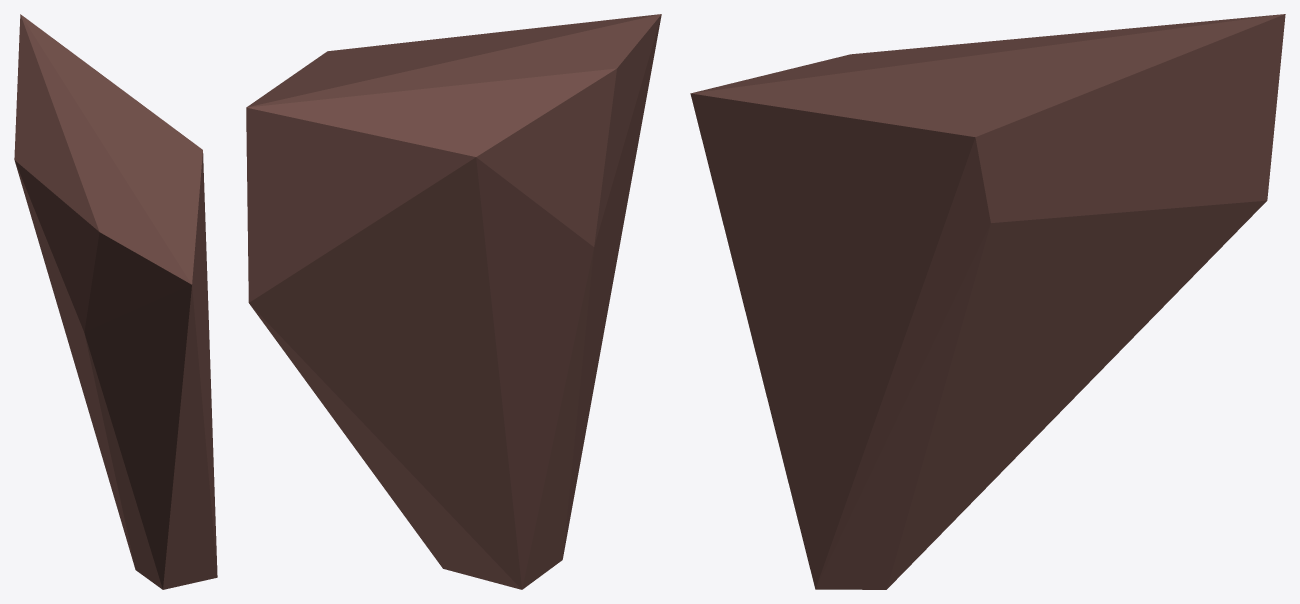
File: Willow_Dead_4.lod4.glb
3 views of the same model, side by side, from view 1: azimuth 30°, elevation 25°; view 2: azimuth 150°, elevation 25°; view 3: azimuth 270°, elevation 25° (orthographic). The views are drawn at different scales.
Parts seen in each view (by area): view 1: Willow_Dead_4; view 2: Willow_Dead_4; view 3: Willow_Dead_4.
Boxes of the visible parts, x1,y1,x2,y2 form: Willow_Dead_4: (14, 14, 217, 589); Willow_Dead_4: (246, 14, 661, 589); Willow_Dead_4: (690, 14, 1285, 589).
Size of the model in its own units: 0.9919 by 2.72 by 2.6.
